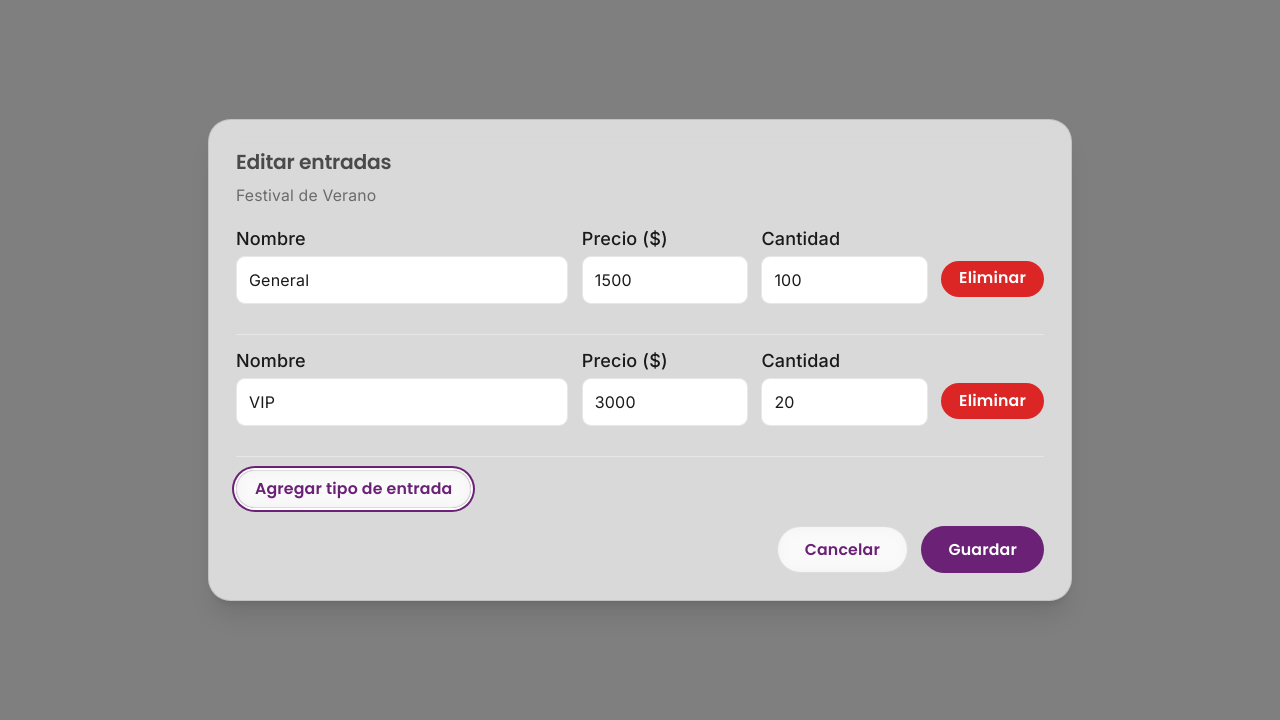
Test: EditTicketsModal › explains that add-only remains available on a 409 ticket-types-referenced
Expected: the field named "Nombre de la entrada 1" is shown, top-left (236, 256), bottom-right (568, 304)
Click the button "Guardar" at (983, 550), box top-left (922, 526), bottom-right (1044, 574)
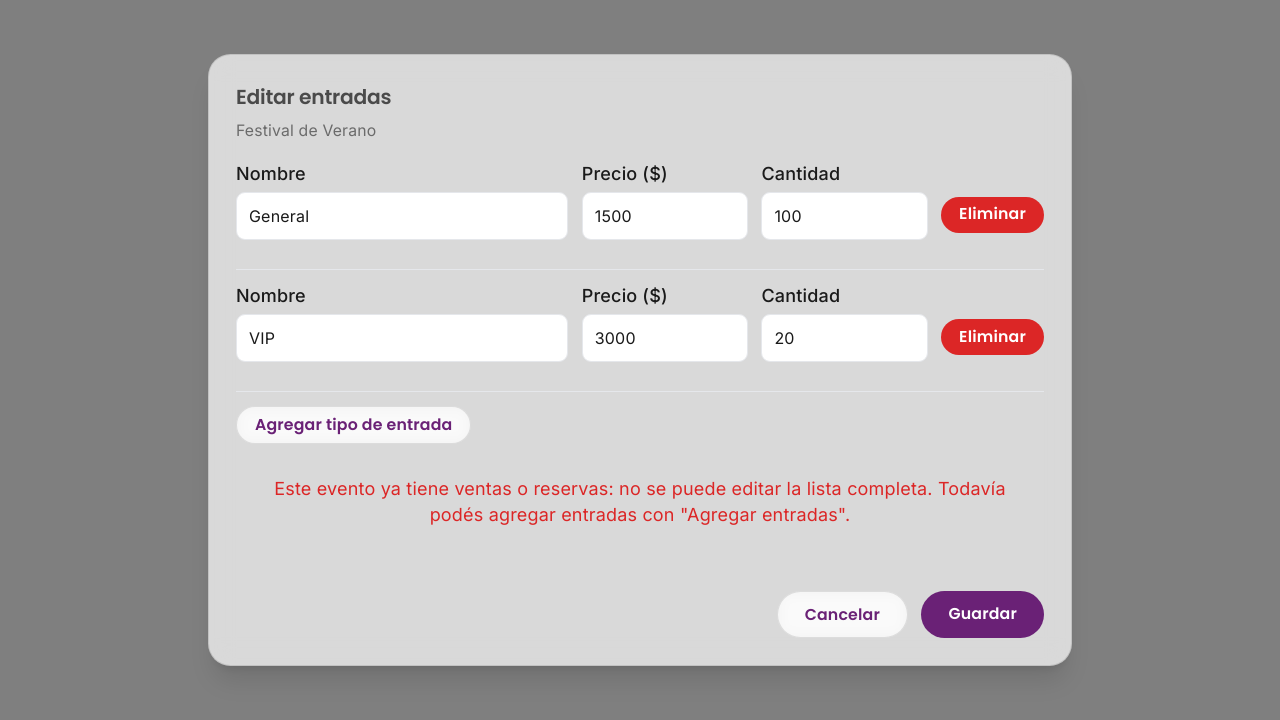
Now the message shows "agregar entradas", box top-left (274, 478), bottom-right (1006, 526)
